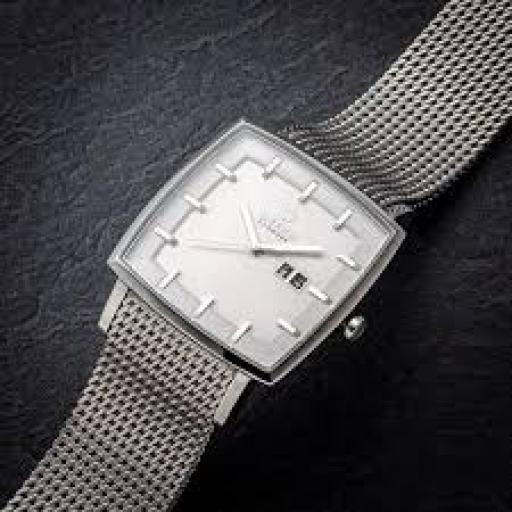KolSaati: (1, 1, 502, 510)
